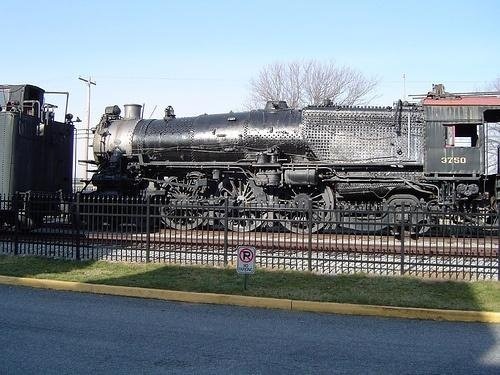train: (87, 105, 492, 237)
